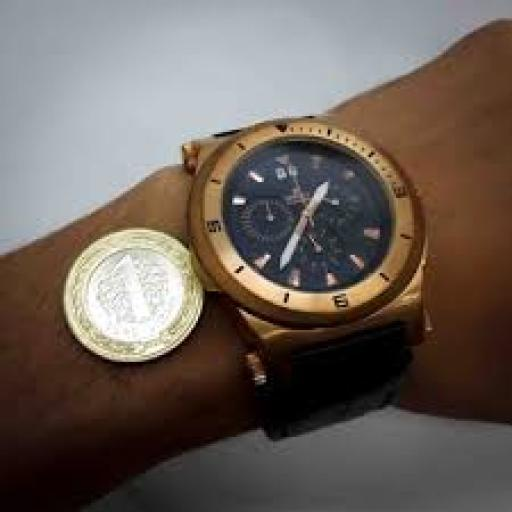KolSaati: (166, 96, 463, 442)
